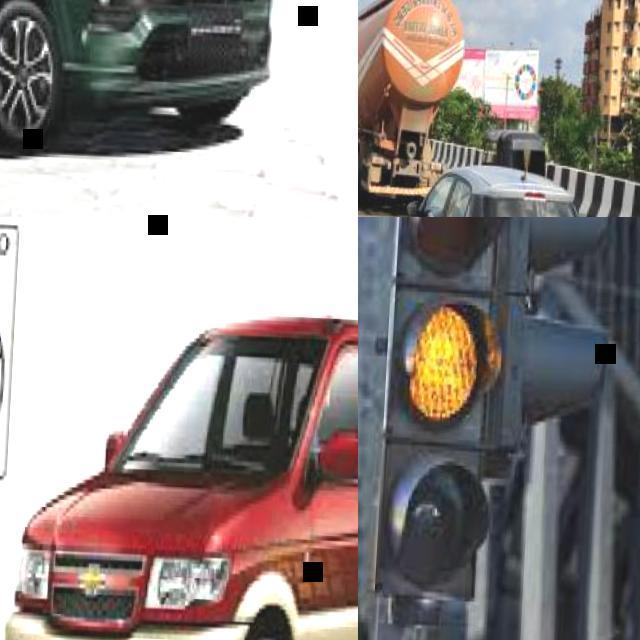car: (12, 314, 358, 639)
